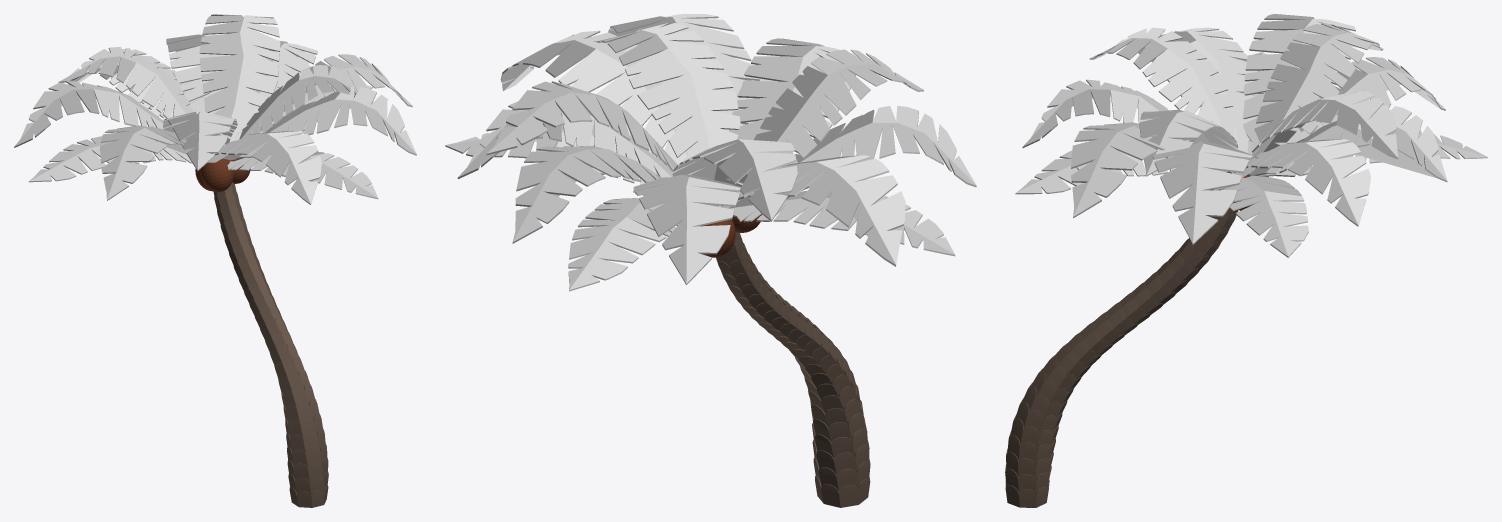
The model's file is low poly palm tree.fbx.
3 views of the same model, side by side, from view 1: azimuth 30°, elevation 25°; view 2: azimuth 150°, elevation 25°; view 3: azimuth 270°, elevation 25° (orthographic). The views are drawn at different scales.
Visible parts, largest first — view 1: leaves, tronc, noix de coco; view 2: leaves, tronc; view 3: leaves, tronc.
Boxes of the visible parts, x1,y1,x2,y2 form: leaves: [14, 14, 416, 204]; tronc: [213, 182, 328, 507]; noix de coco: [200, 158, 233, 191]; leaves: [445, 14, 976, 291]; tronc: [716, 232, 870, 507]; leaves: [1015, 14, 1487, 257]; tronc: [1005, 209, 1238, 507].
Size of the model in its own units: 1570 by 1563 by 1564.
